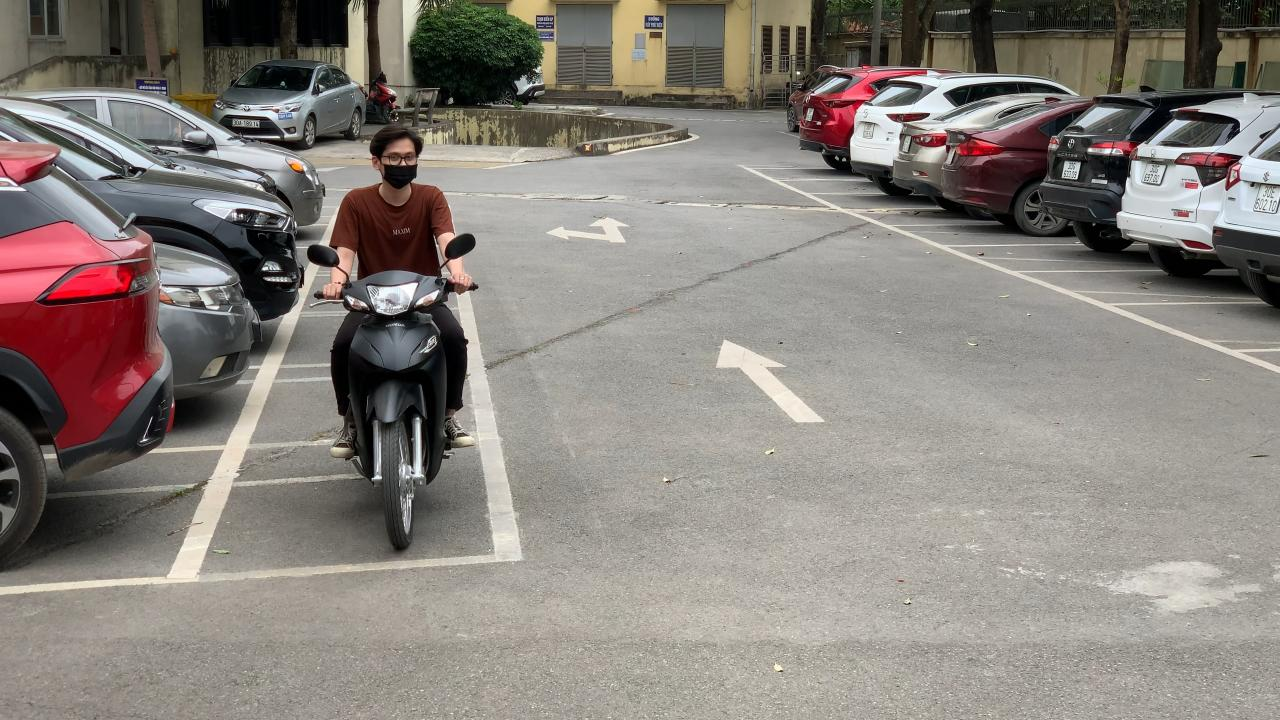motorcyclist: (302, 124, 486, 551)
